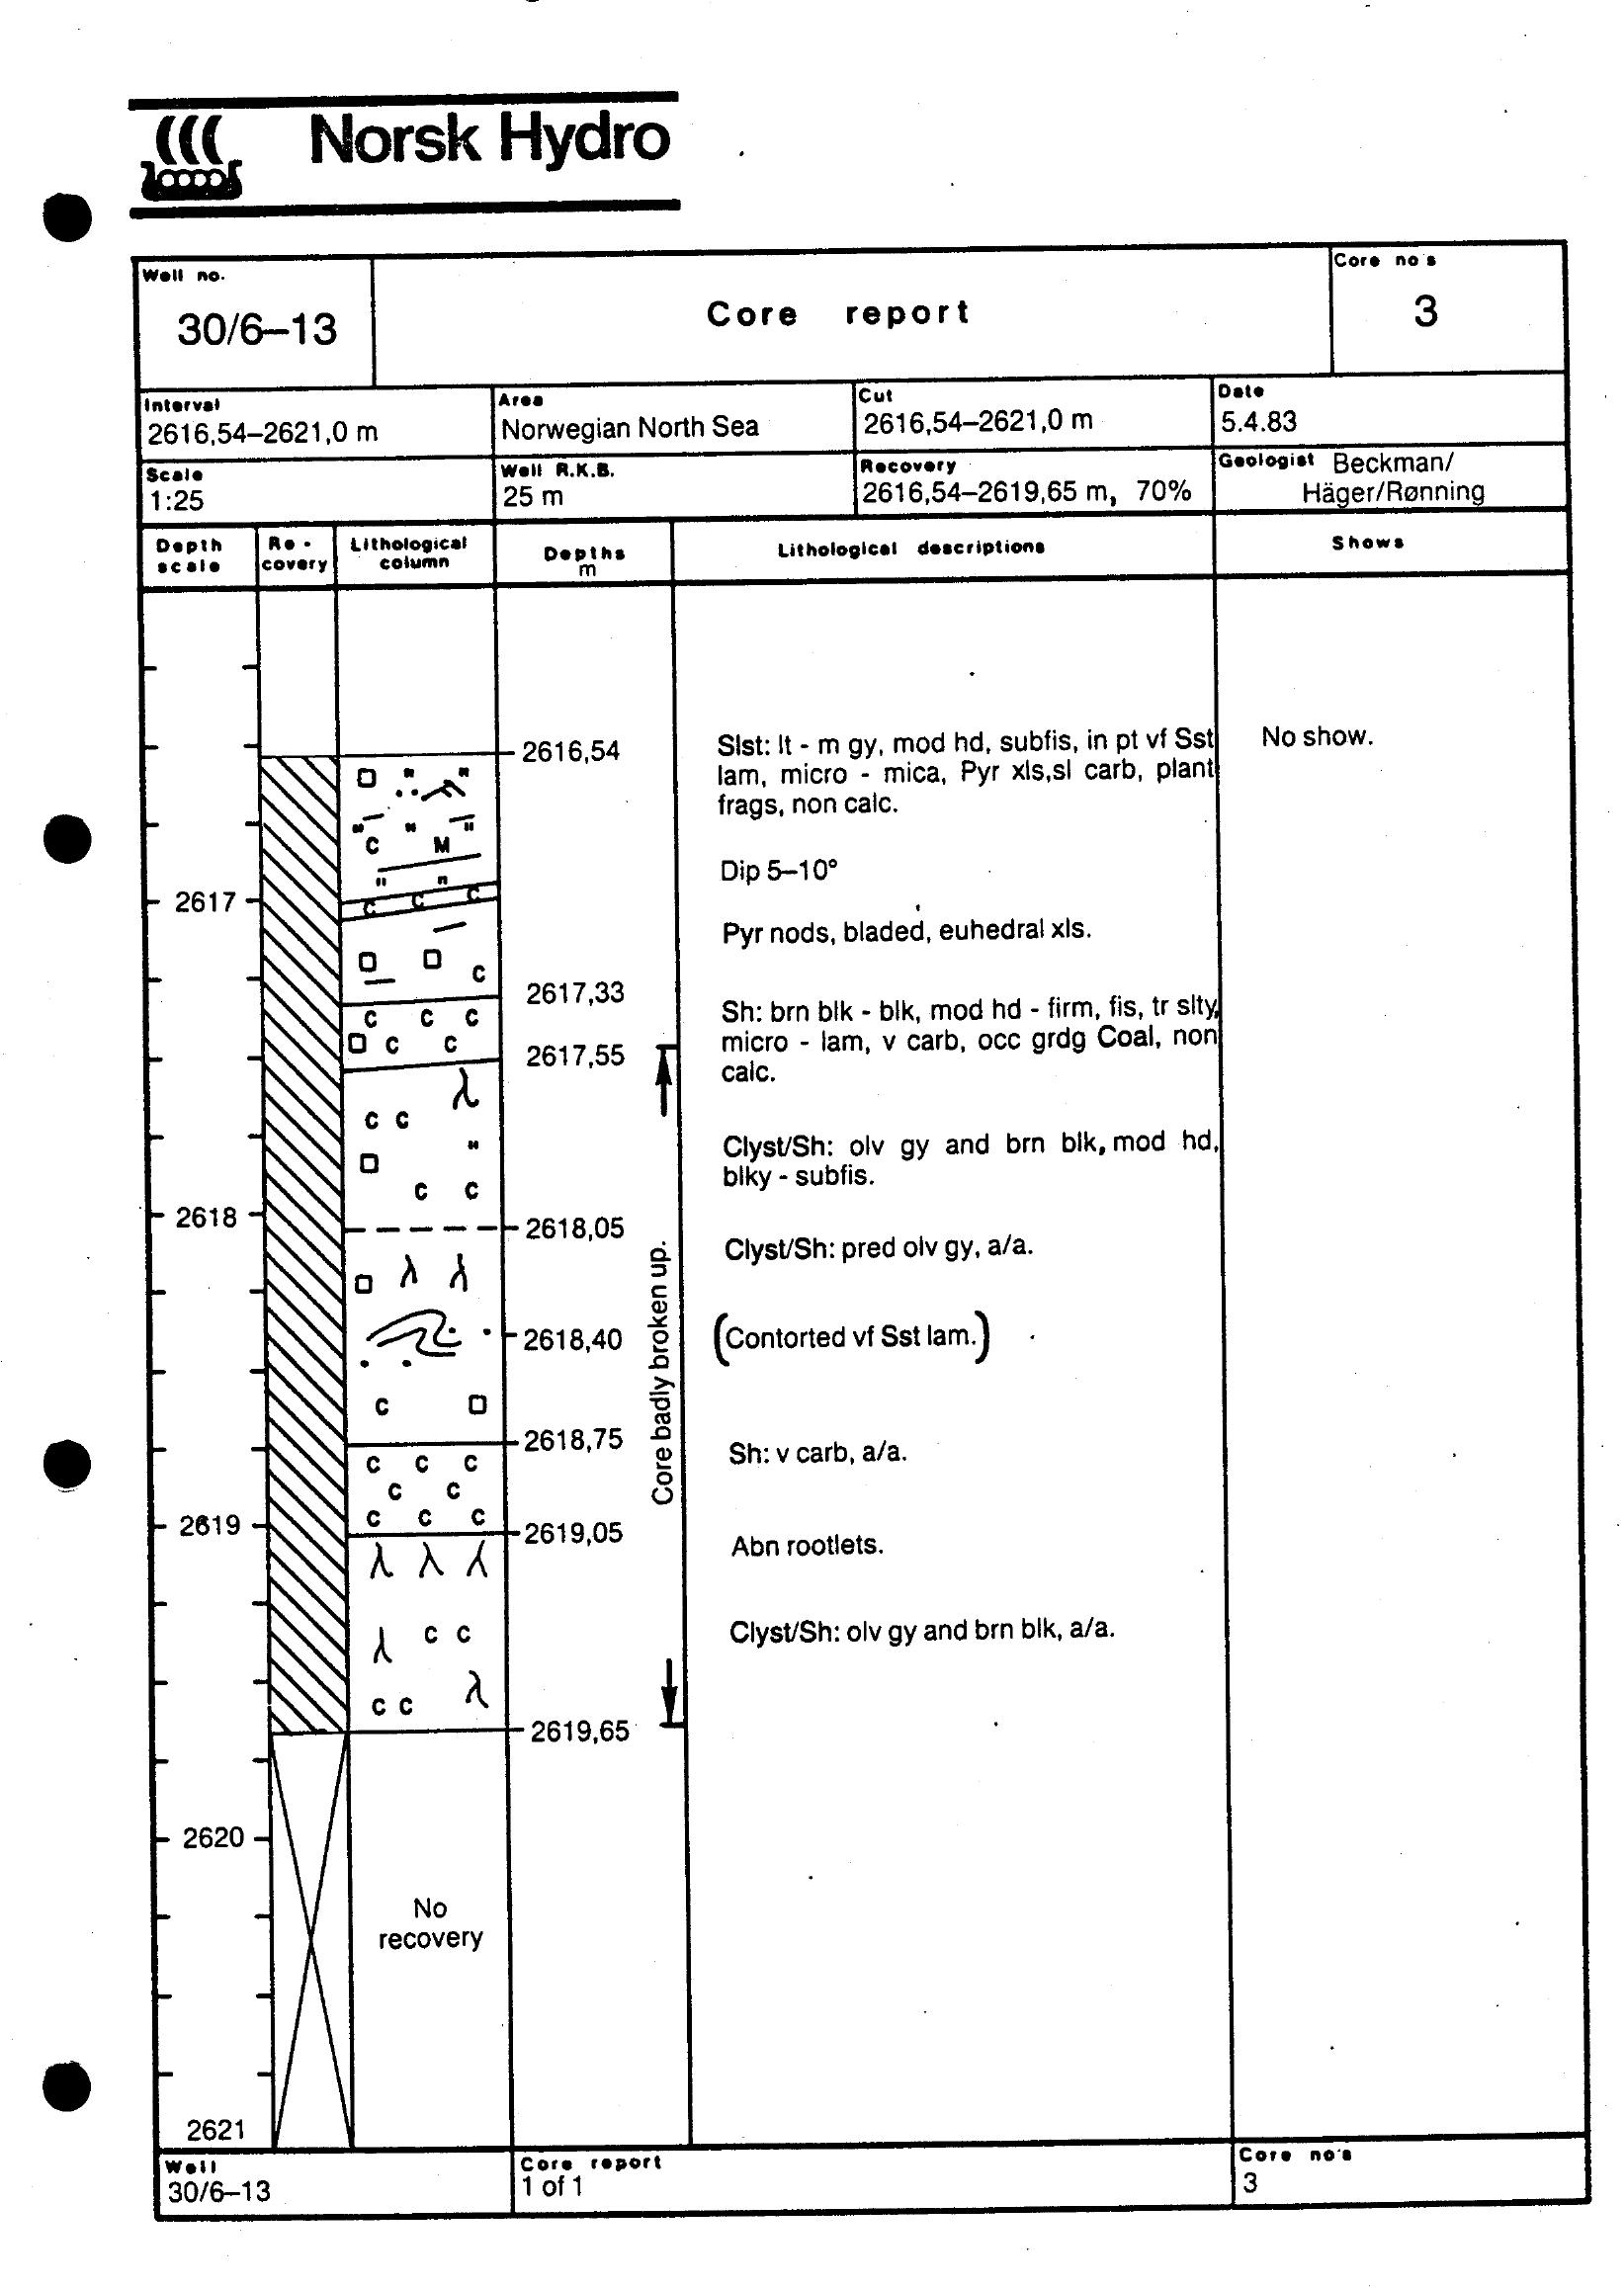graph: (112, 239, 1606, 2241)
undefined: (109, 69, 703, 234)
